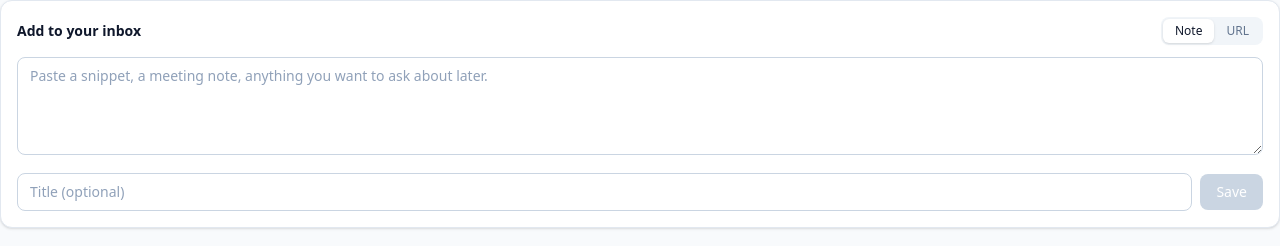
Test: AddSourceForm › shows the field-level message from a validation error
Step 1. Click the tab "URL" → [1238, 31], box [1214,19,1261,43]
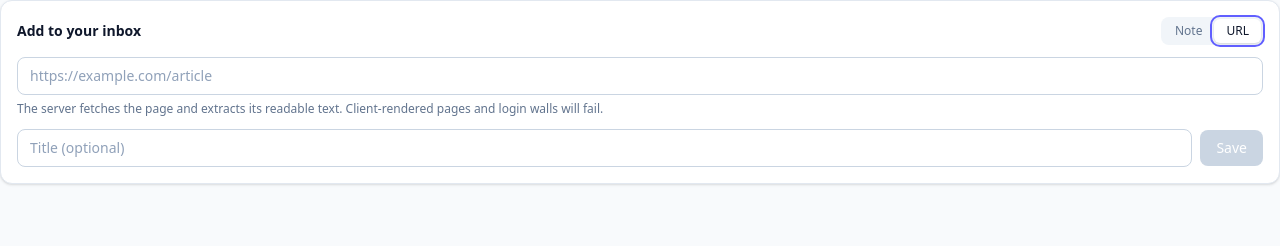
Step 2. Type "https://nope.invalid" into the field named "page url" → [640, 76], box [17,57,1263,95]
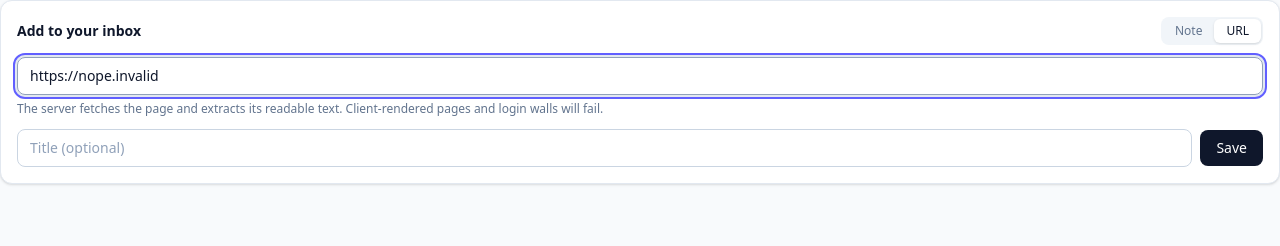
Step 3. Click the button "Save" → [1232, 148], box [1200,130,1263,166]
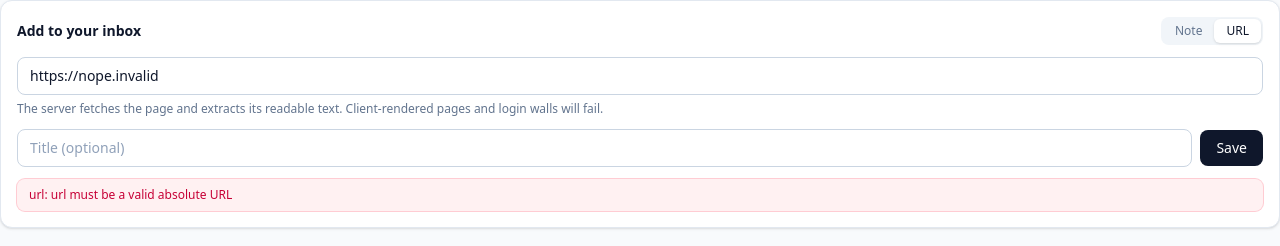
expect the message reads "url: url must be a valid absolute URL": met, box [29,186,232,203]
